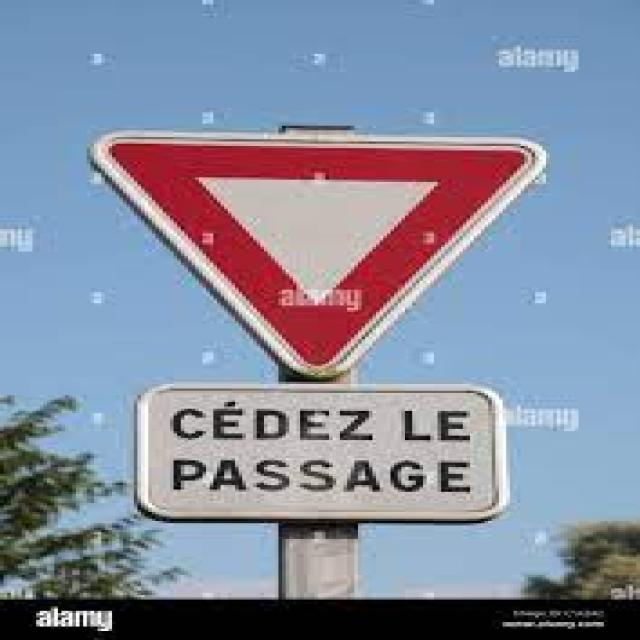Ceder-le-Passage: (98, 137, 556, 380)
